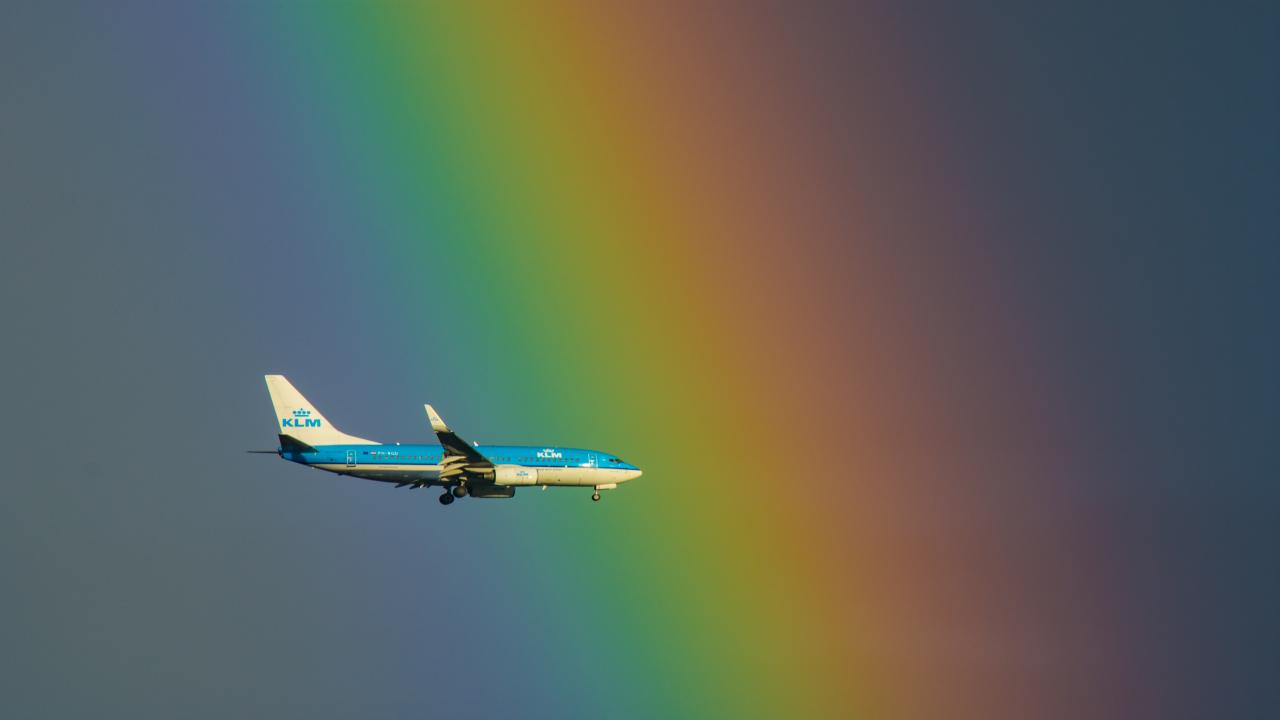Airplane: (227, 355, 664, 533)
